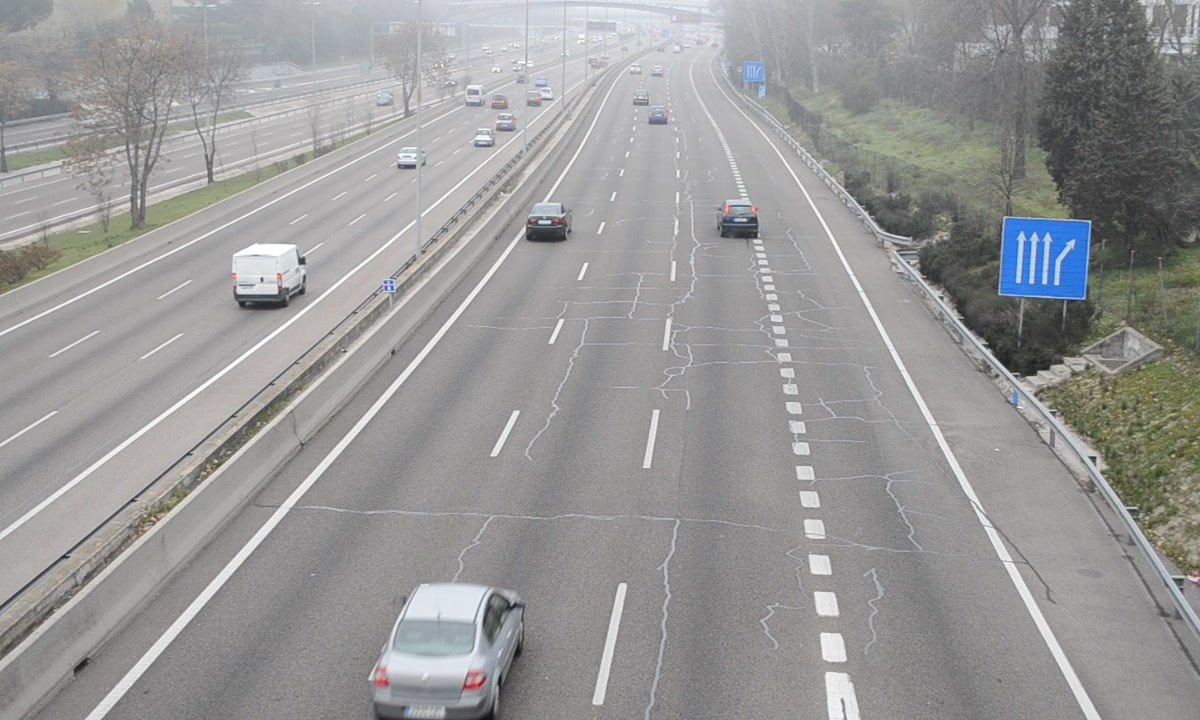car: (369, 583, 526, 720), (526, 202, 569, 237), (719, 200, 759, 235)
